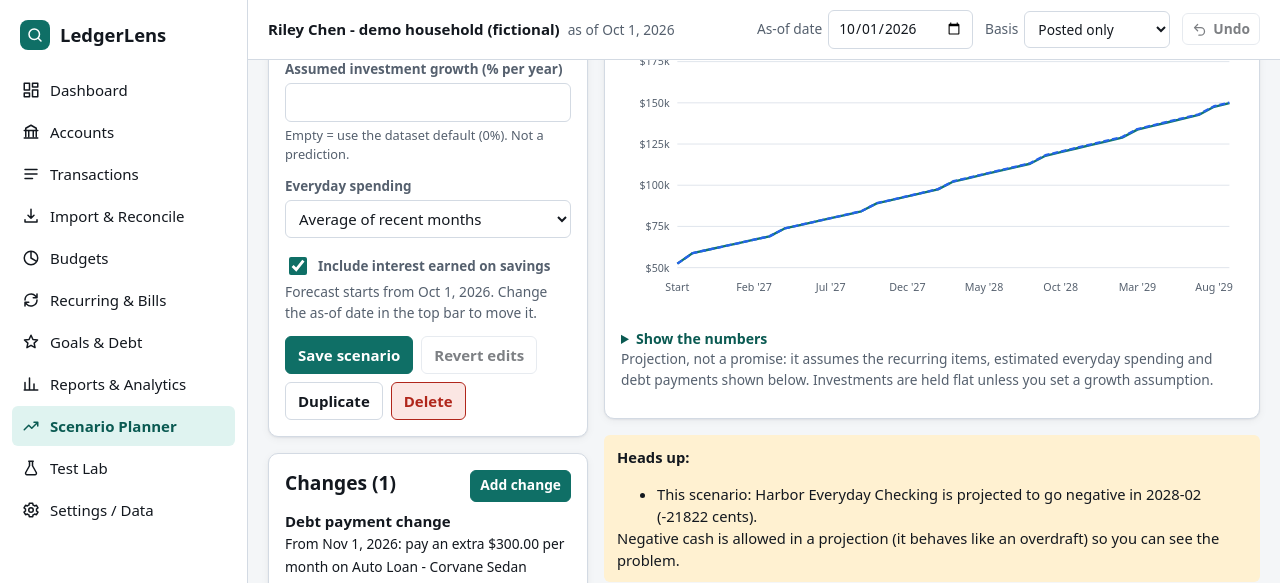
Test case: recurring, planner, lab and settings › planner: a saved scenario differs from baseline; its duplicate shows no differences
(page scrolled)
Click the button "Duplicate".
click(334, 401)  # box [285,382,383,420]
(page scrolled)
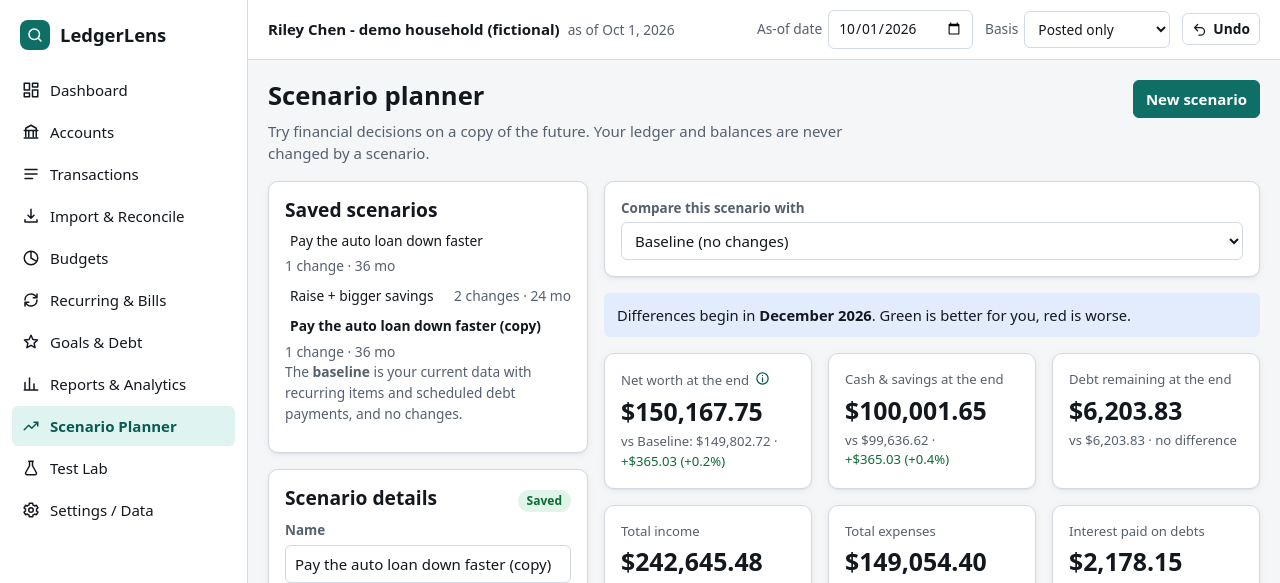
Select "Saved scenario: Pay the auto loan down faster" in the dropdown labelled "Compare this scenario with" at (932,241), box [621,222,1243,260]
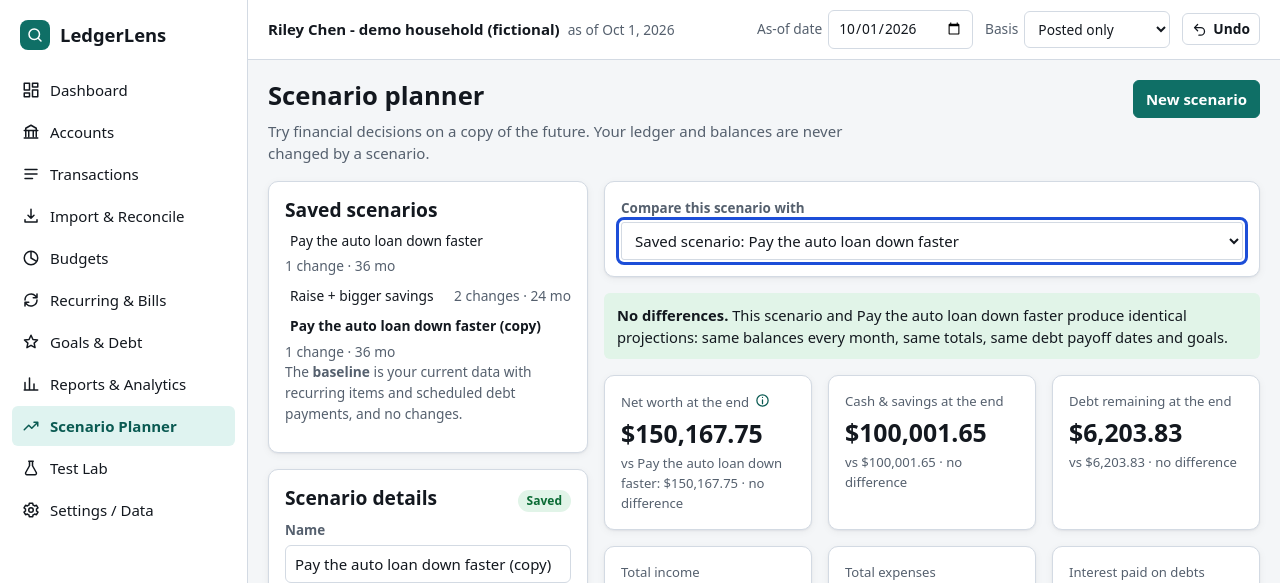
Expected: the text "No differences." is shown, [617,305,728,325]
